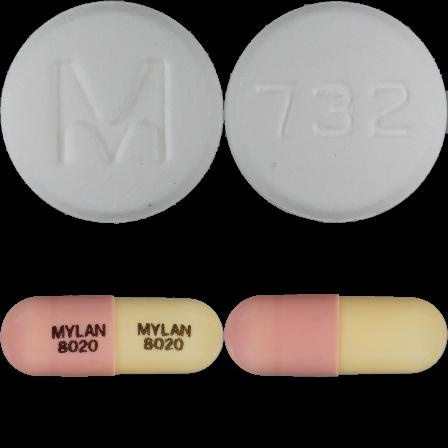0378-7732: (0, 0, 224, 224)
